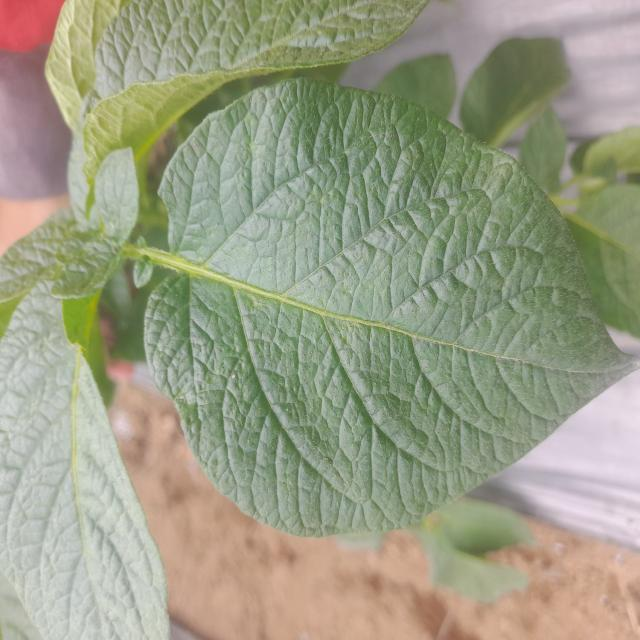healthy: (138, 76, 637, 539)
